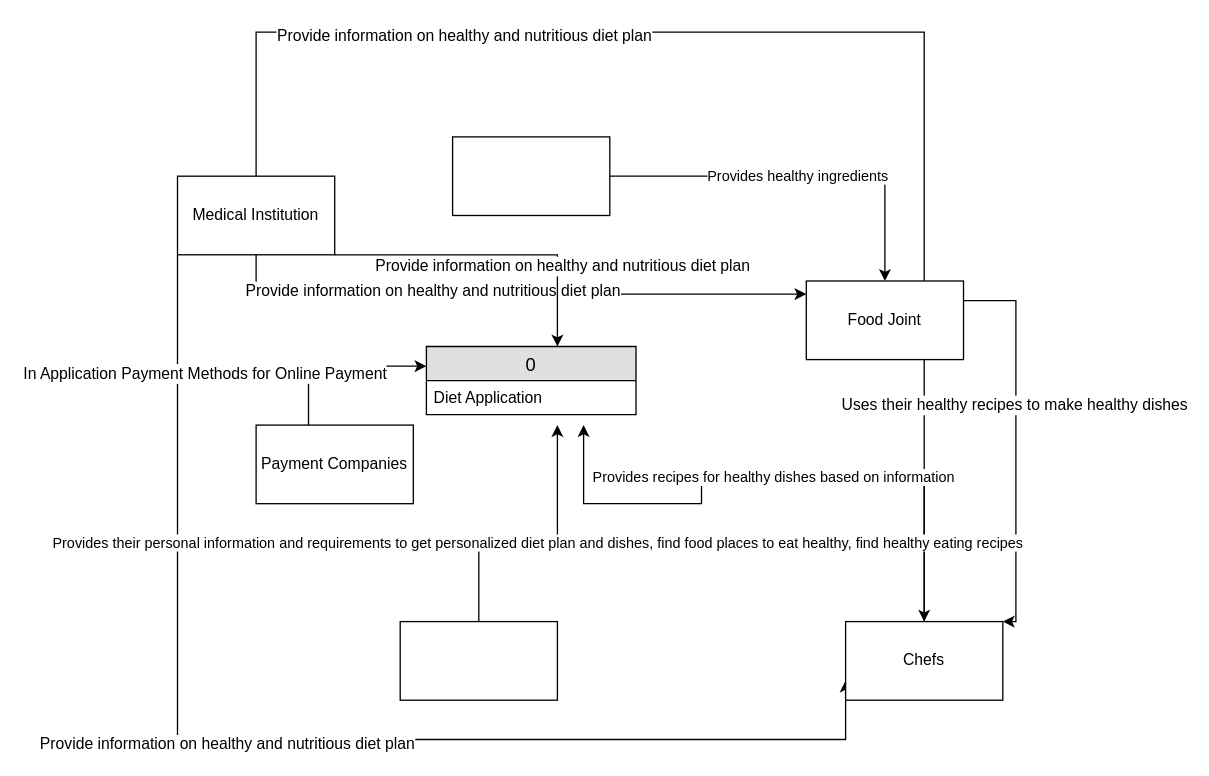
Image size: 1209x776. Some labels were removed from this diagram. The box of each missing label's shape, as (x1, y1, x2, y2) in pixels:
Grocery Store: (451, 136, 610, 215)
User: (399, 620, 557, 700)
